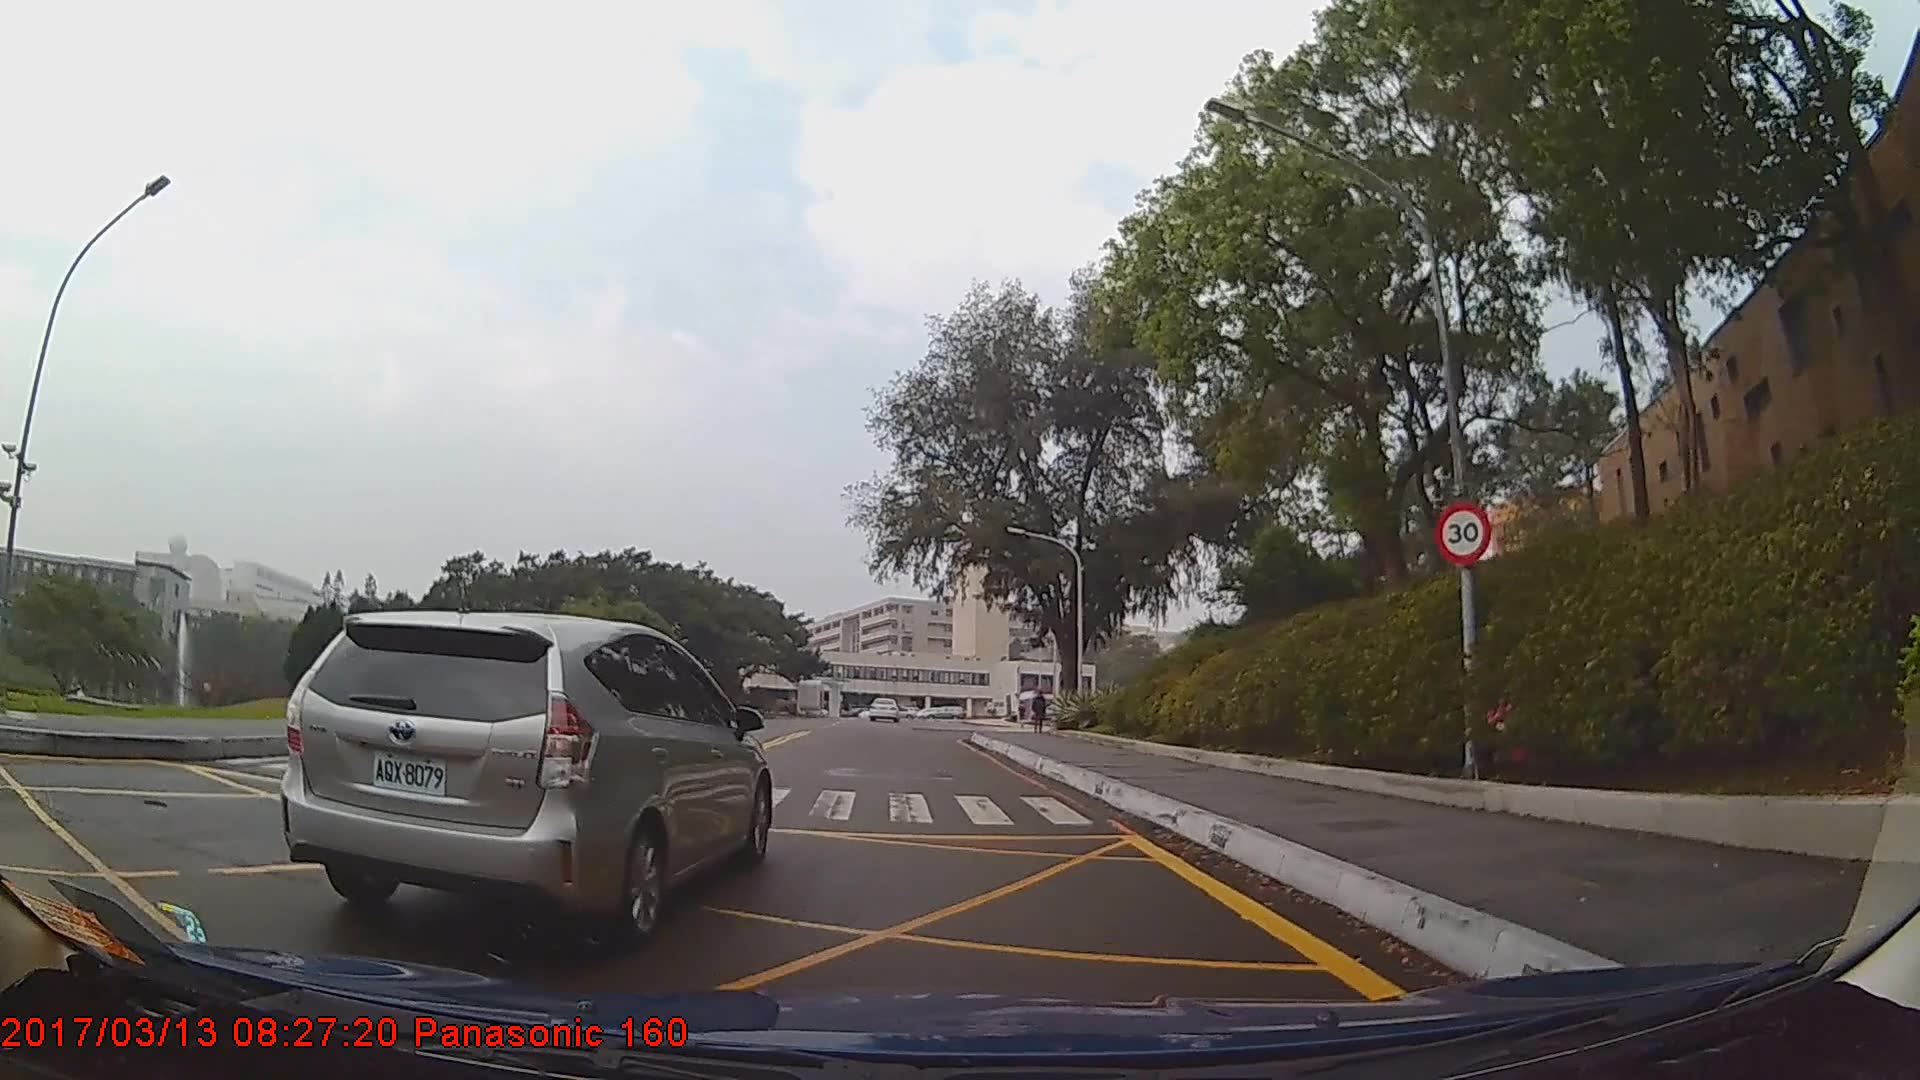pedestrian: (1029, 690, 1050, 736)
vehicle: (278, 604, 772, 943), (866, 695, 895, 722)
